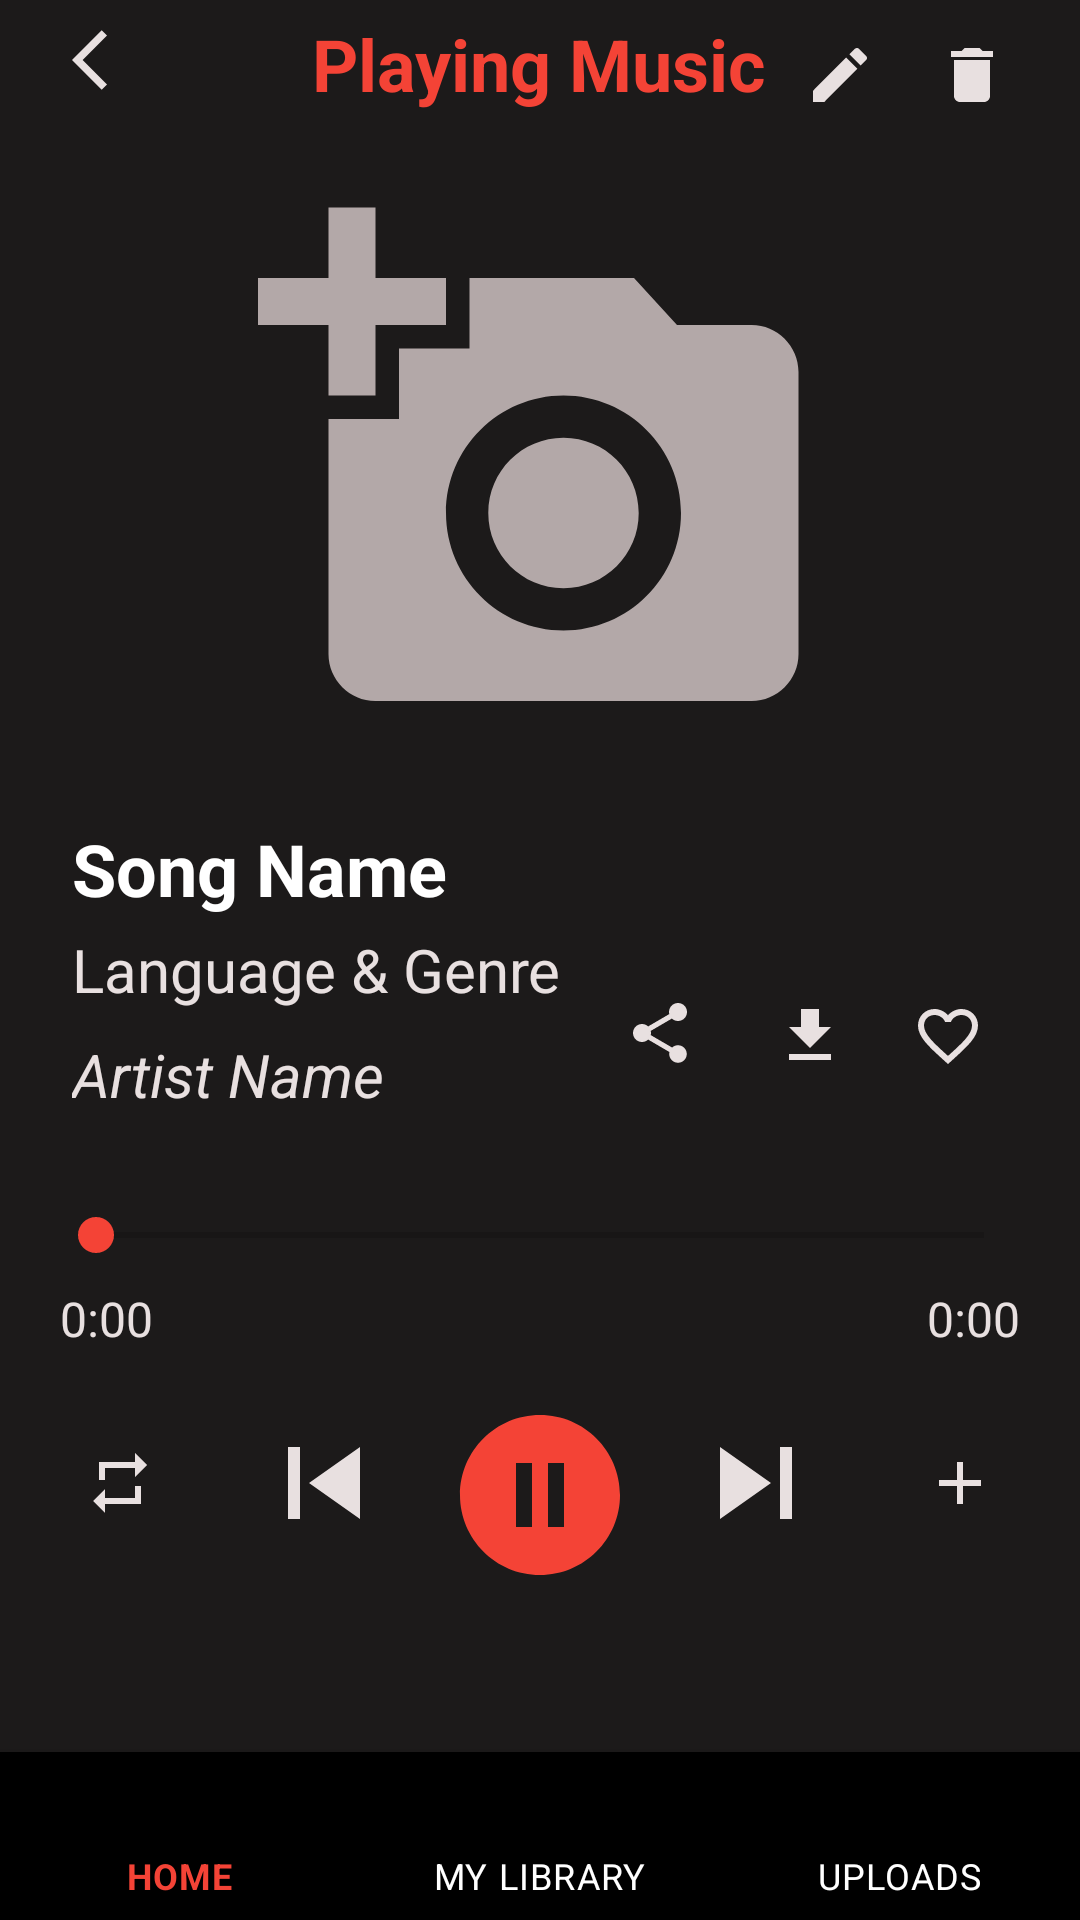

Icon bounding boxes for this 1080*1920 phone screenshot, format {"x1": x1, "y1": y1, "x2": x2, "y2": y2}:
add: {"x1": 939, "y1": 1462, "x2": 981, "y2": 1504}
arrow back: {"x1": 72, "y1": 30, "x2": 107, "y2": 90}
delete: {"x1": 951, "y1": 48, "x2": 993, "y2": 102}
edit: {"x1": 813, "y1": 48, "x2": 867, "y2": 102}
favorite border: {"x1": 918, "y1": 1009, "x2": 978, "y2": 1064}
file download: {"x1": 789, "y1": 1009, "x2": 831, "y2": 1060}
pause circle: {"x1": 460, "y1": 1415, "x2": 620, "y2": 1575}
repeat: {"x1": 93, "y1": 1453, "x2": 147, "y2": 1513}
share: {"x1": 633, "y1": 1003, "x2": 687, "y2": 1063}
skip next: {"x1": 720, "y1": 1447, "x2": 792, "y2": 1519}
skip previous: {"x1": 288, "y1": 1447, "x2": 360, "y2": 1519}
